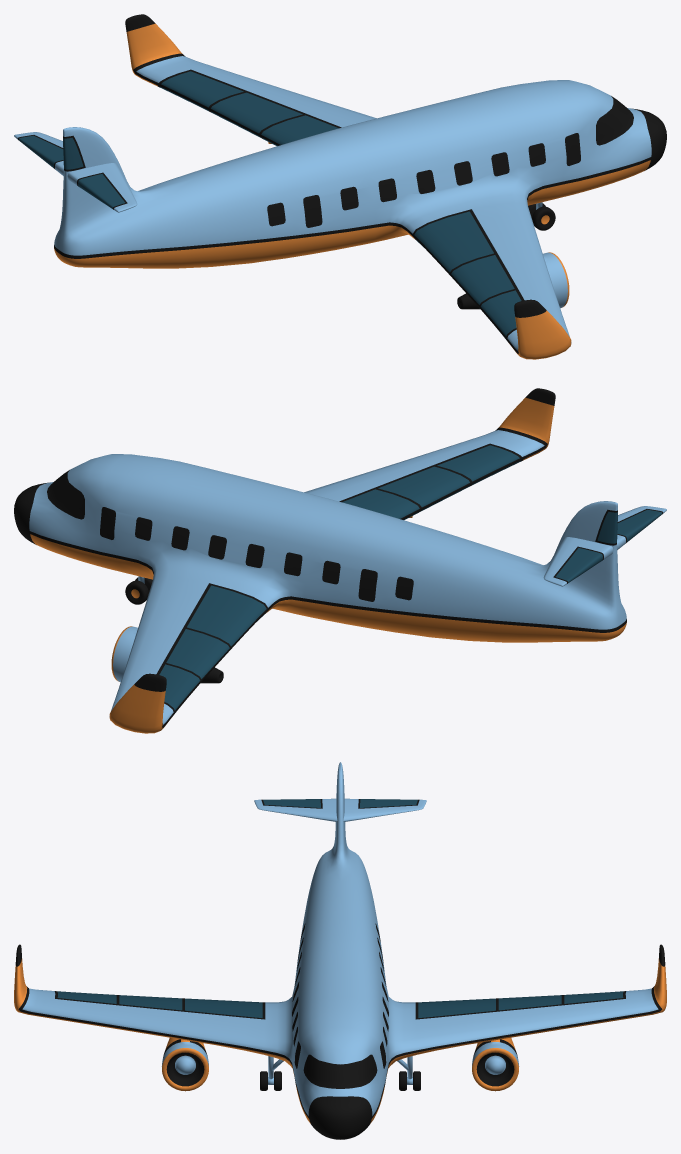
The model's file is airport-airplane-1.glb.
3 renders of one model, top to bottom at view 1: azimuth 30°, elevation 25°; view 2: azimuth 150°, elevation 25°; view 3: azimuth 270°, elevation 25°, orthographic. The views are drawn at different scales.
Visible parts, largest first — view 1: 18.1.Airplane_AIRPORT_0; view 2: 18.1.Airplane_AIRPORT_0; view 3: 18.1.Airplane_AIRPORT_0.
Boxes of the visible parts, bbox=[...] form: 18.1.Airplane_AIRPORT_0: bbox=[14, 14, 666, 359]; 18.1.Airplane_AIRPORT_0: bbox=[14, 388, 666, 733]; 18.1.Airplane_AIRPORT_0: bbox=[14, 762, 666, 1139].
Bounding box in the file's own units: 51.34 × 17.36 × 58.31.
Materials: 1 (1 with a texture image).
